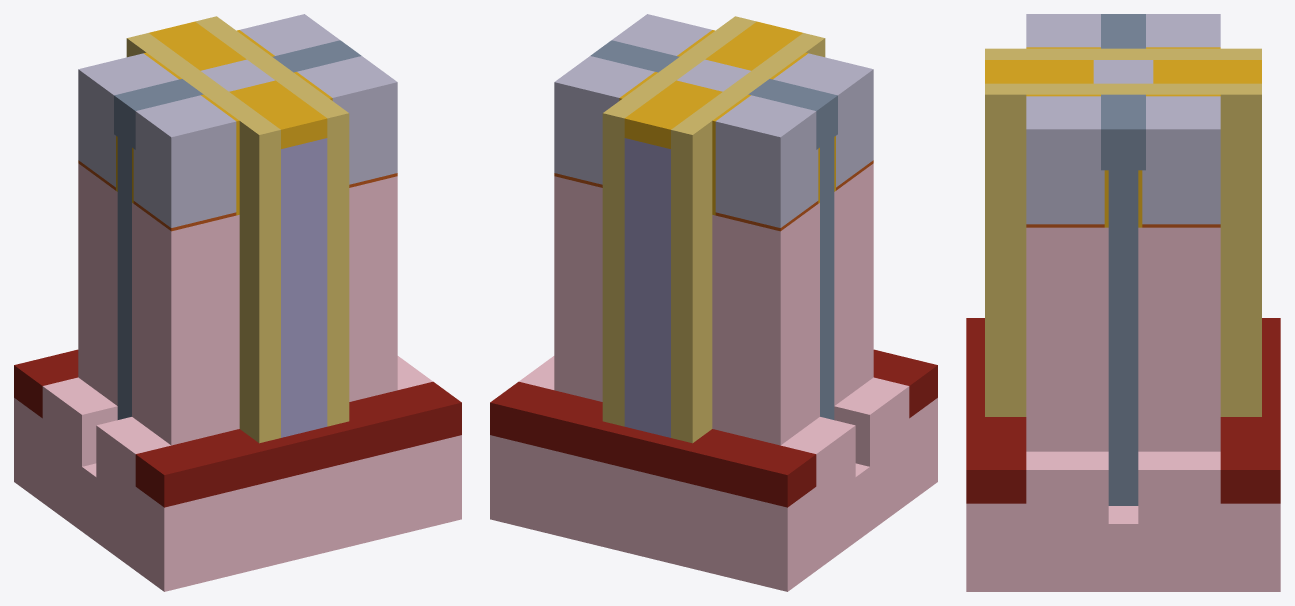
3 views of the same model, side by side, from view 1: azimuth 30°, elevation 25°; view 2: azimuth 150°, elevation 25°; view 3: azimuth 270°, elevation 25° (orthographic). The views are drawn at different scales.
Visible parts, largest first — view 1: substrate, epi_n_source, sti, spacer_n_source, mo_n, ni_n_source, epi_n_drain, epi_p_source, spacer_n_drain, ni_n_drain, gatecap, ni_p_source (+9 smaller); view 2: substrate, epi_p_source, sti, spacer_p_source, mo_p, ni_p_source, epi_p_drain, epi_n_source, spacer_p_drain, ni_p_drain, gatecap, ni_n_source (+9 smaller); view 3: substrate, epi_n_drain, epi_p_drain, spacer_n_drain, spacer_p_drain, sti, wall, ni_n_drain, ni_p_drain, gatecap, cpw_drain, ni_n_source (+8 smaller).
Part boxes in pixels (left/top/right/bottom): substrate: left=14, top=356, right=461, bottom=591; epi_n_source: left=132, top=203, right=239, bottom=445; sti: left=14, top=349, right=461, bottom=507; spacer_n_source: left=200, top=86, right=280, bottom=443; mo_n: left=281, top=138, right=327, bottom=437; ni_n_source: left=133, top=95, right=236, bottom=227; epi_n_drain: left=349, top=176, right=397, bottom=401; epi_p_source: left=78, top=163, right=117, bottom=405; spacer_n_drain: left=268, top=70, right=349, bottom=426; ni_n_drain: left=297, top=56, right=397, bottom=184; gatecap: left=149, top=21, right=327, bottom=148; ni_p_source: left=78, top=53, right=178, bottom=187; substrate: left=490, top=356, right=937, bottom=591; epi_p_source: left=712, top=203, right=819, bottom=445; sti: left=490, top=349, right=937, bottom=507; spacer_p_source: left=671, top=86, right=751, bottom=443; mo_p: left=624, top=138, right=670, bottom=437; ni_p_source: left=715, top=95, right=818, bottom=227; epi_p_drain: left=554, top=176, right=602, bottom=401; epi_n_source: left=834, top=163, right=873, bottom=405; spacer_p_drain: left=602, top=70, right=683, bottom=426; ni_p_drain: left=554, top=56, right=654, bottom=184; gatecap: left=624, top=21, right=802, bottom=148; ni_n_source: left=773, top=53, right=873, bottom=187; substrate: left=966, top=451, right=1280, bottom=591; epi_n_drain: left=1026, top=227, right=1108, bottom=451; epi_p_drain: left=1138, top=227, right=1220, bottom=451; spacer_n_drain: left=985, top=83, right=1108, bottom=416; spacer_p_drain: left=1138, top=83, right=1261, bottom=416; sti: left=966, top=318, right=1280, bottom=503; wall: left=1108, top=170, right=1138, bottom=505; ni_n_drain: left=1026, top=96, right=1104, bottom=224; ni_p_drain: left=1142, top=96, right=1220, bottom=224; gatecap: left=985, top=60, right=1261, bottom=83; cpw_drain: left=1101, top=94, right=1145, bottom=170; ni_n_source: left=1026, top=14, right=1100, bottom=47.
Size of the model in its own units: 96 by 131 by 84.
